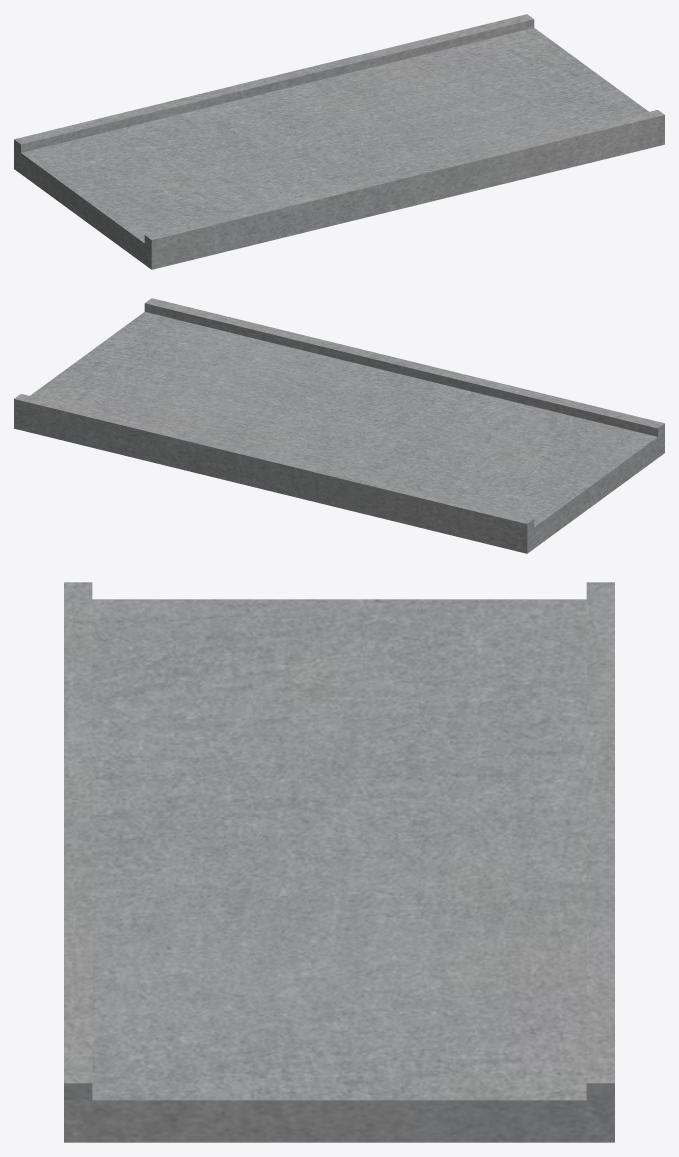
File: foot path.fbx
3 views of the same model, one above another, from view 1: azimuth 30°, elevation 25°; view 2: azimuth 150°, elevation 25°; view 3: azimuth 270°, elevation 25° (orthographic). The views are drawn at different scales.
Visible parts, largest first — view 1: footpath; view 2: footpath; view 3: footpath.
Boxes of the visible parts, x1=… form: footpath: x1=14, y1=14, x2=664, y2=269; footpath: x1=14, y1=298, x2=664, y2=553; footpath: x1=64, y1=582, x2=614, y2=1142.
Size of the model in its own units: 1024 by 56.65 by 476.
